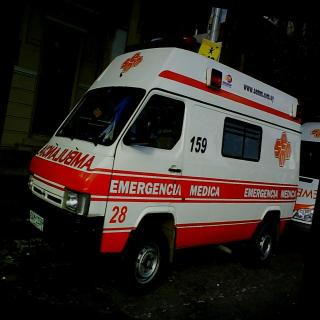Ambulance: (9, 10, 320, 318)
